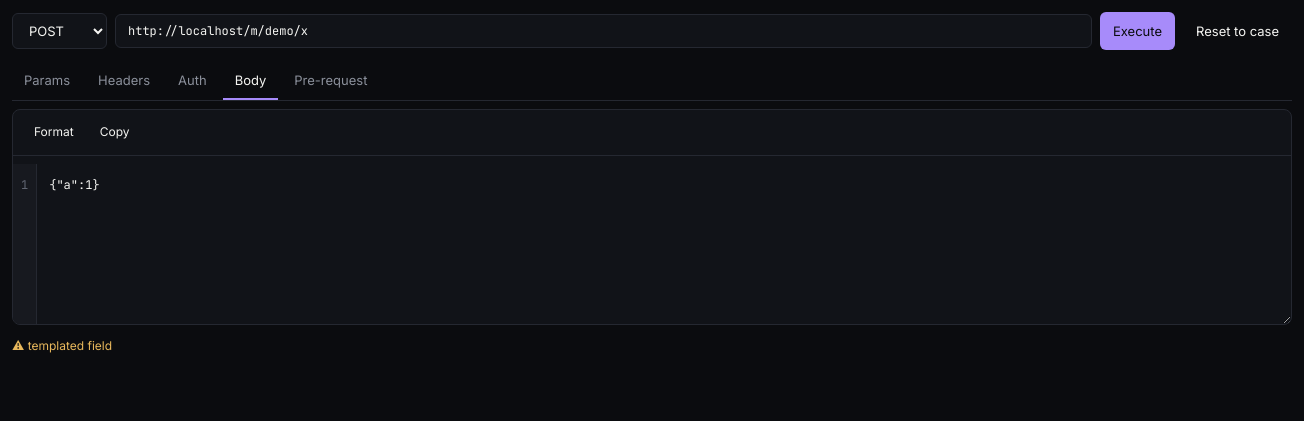
Scenario: RequestBuilder › shows an error line when fetch rejects, without crashing
The width and height of the screenshot is (1304, 421).
Click the button "Execute".
click(1138, 31)  # box [1100, 12, 1175, 50]
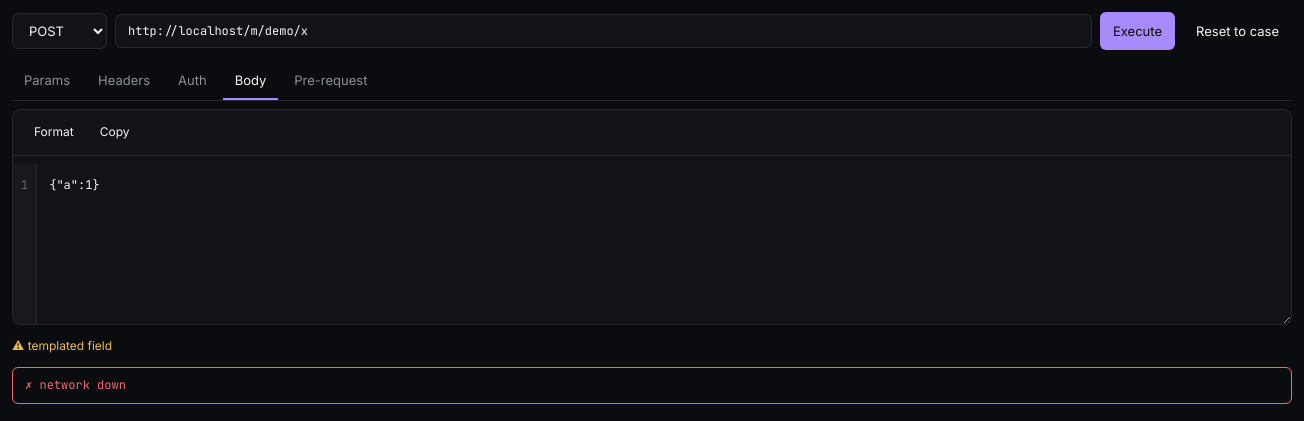
Now the message "✗ network down" is shown, box [12, 368, 1292, 404]
Now the message shows "network down", box [39, 378, 126, 394]
